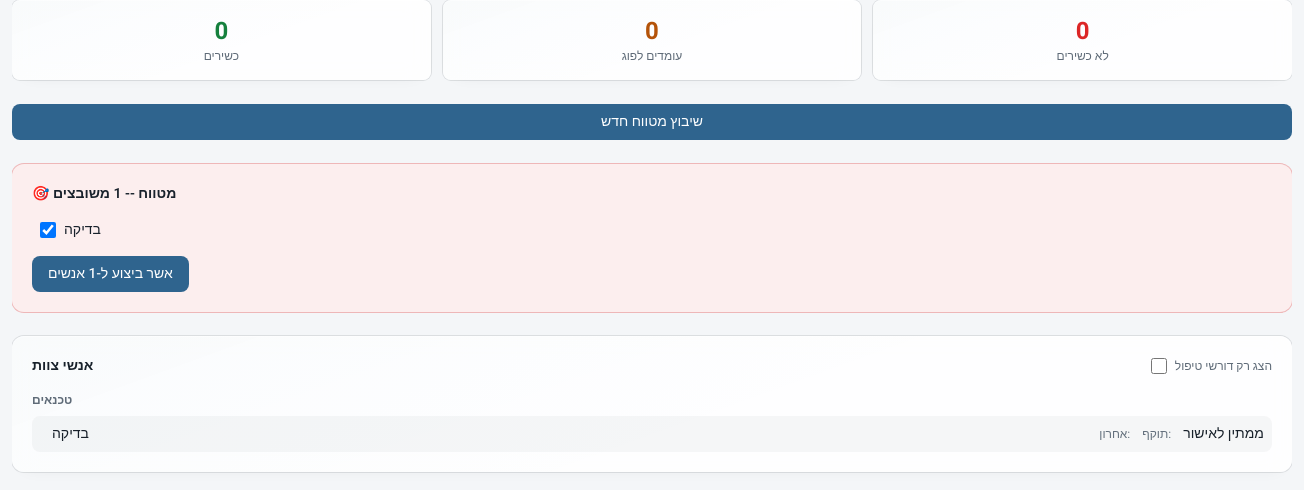
ShootingRangeManagerPanel -- accessible status announcements › confirming a pending planned range's outcome exposes role=status
The width and height of the screenshot is (1304, 490).
What coordinates should you click on to do the following:
click the button "אשר ביצוע ל-1 אנשים"
I would click on:
 (110, 274)
Its box is x1=32 y1=256 x2=189 y2=292.
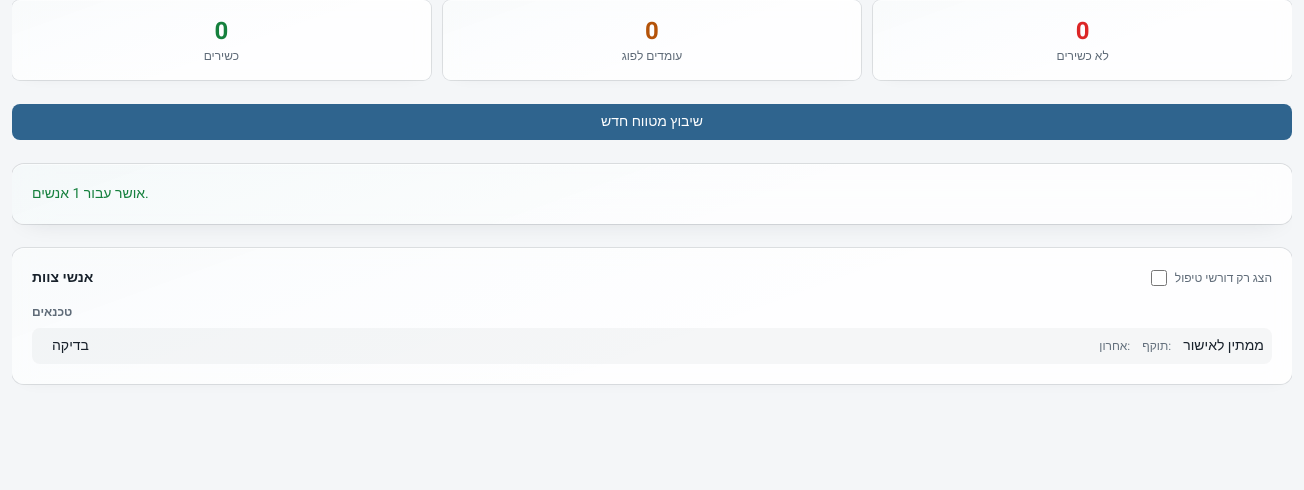
Now the message reads "אושר עבור 1 אנשים.", box x1=32 y1=183 x2=149 y2=204
